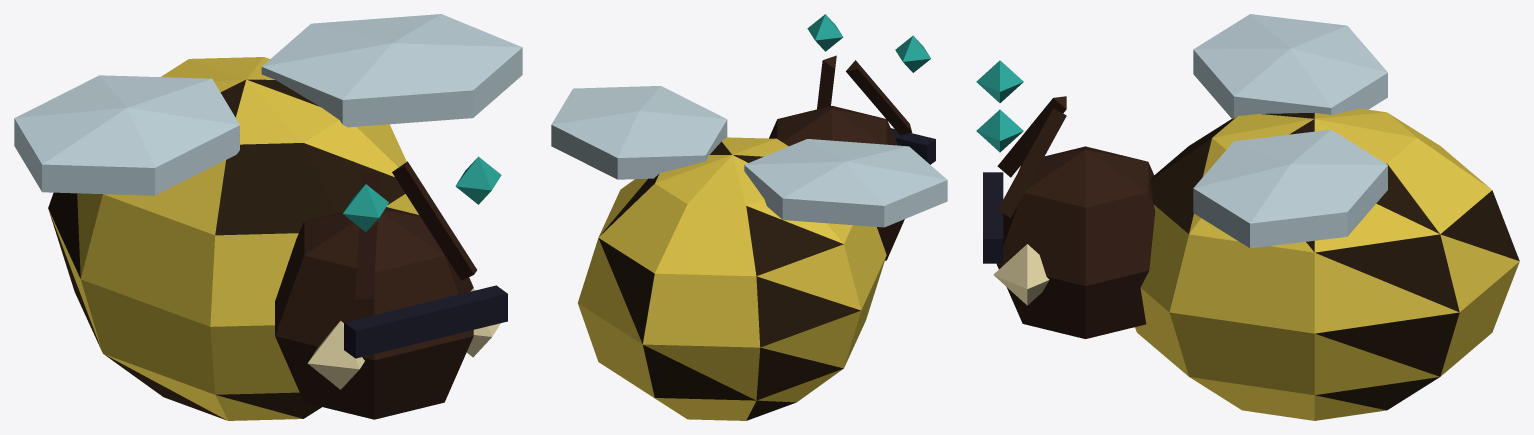
File: skin-bee-sunny.glb
3 renders of one model, left to right at view 1: azimuth 30°, elevation 25°; view 2: azimuth 150°, elevation 25°; view 3: azimuth 270°, elevation 25°, orthographic. The views are drawn at different scales.
Bounding box in the file's own units: 1.45 × 1.03 × 1.59.
